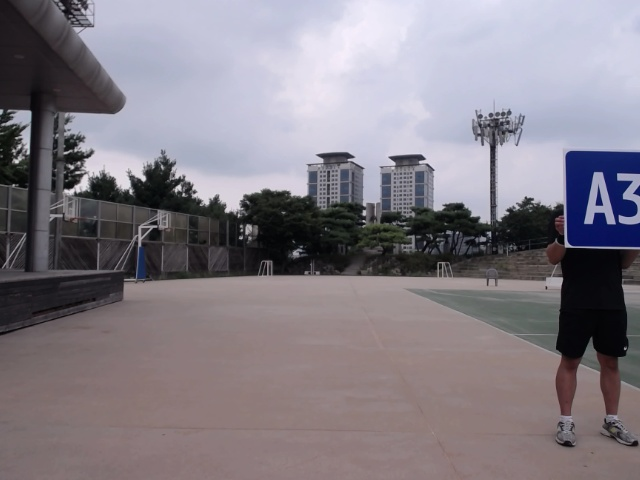delivery_a3: (562, 148, 639, 250)
